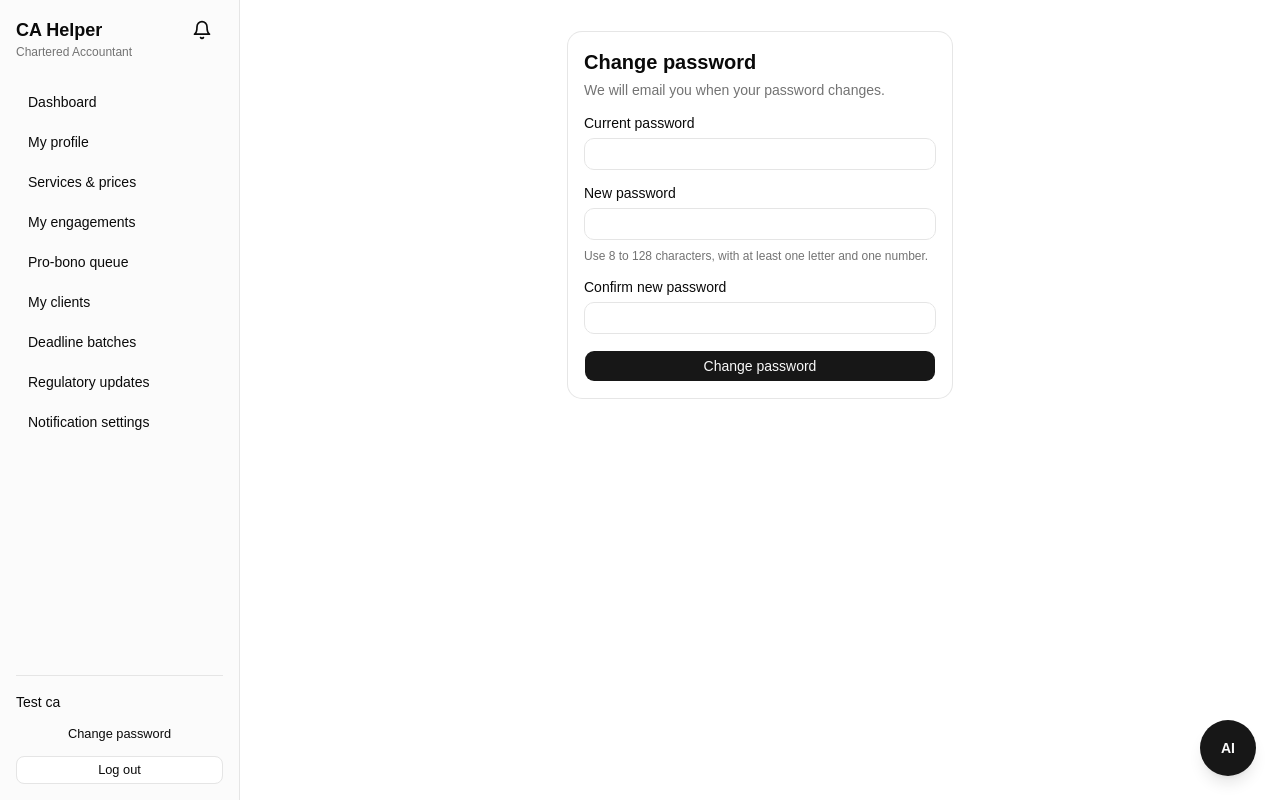
Scenario: change password page › changes the password and empties the form
Type "Old-Password-1" into the password field labelled "Current password" at [760, 154], box [584,138,936,170]
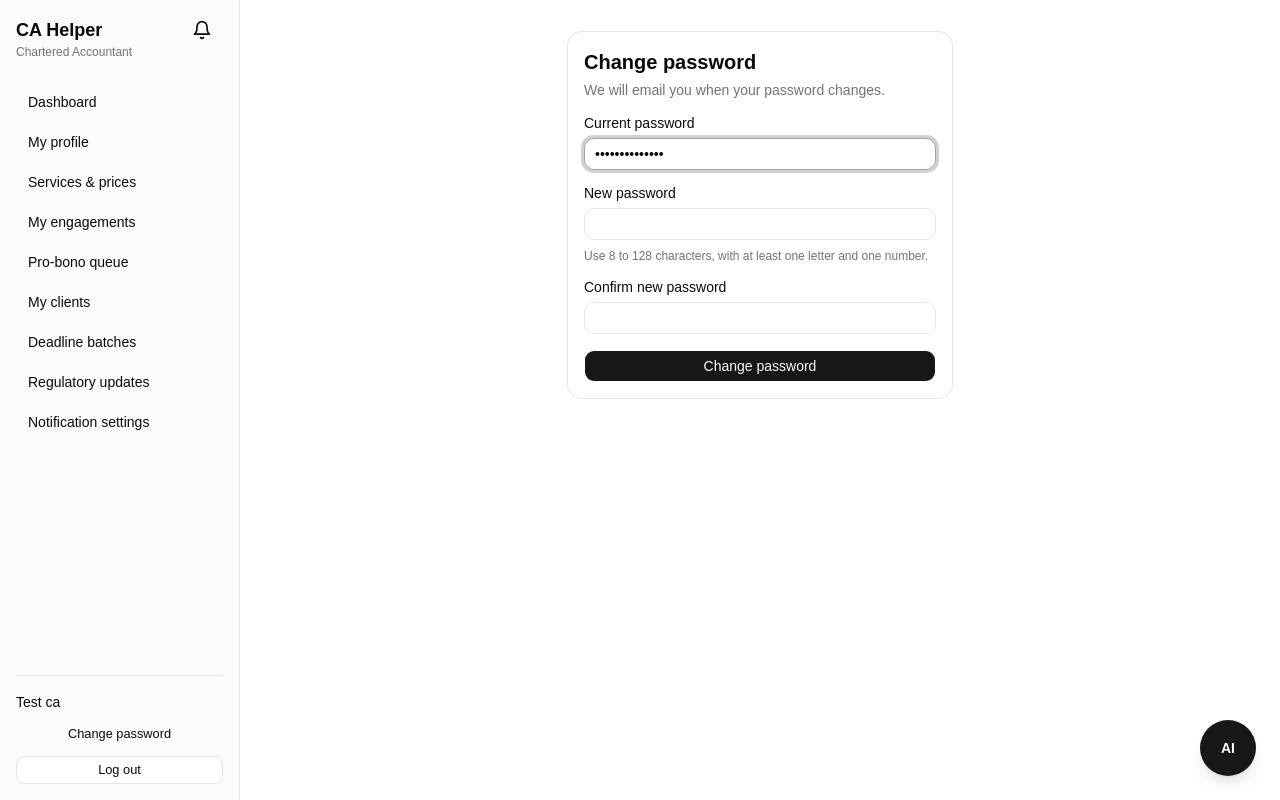
Type "New-Password-7" into the password field labelled "New password" at [760, 224], box [584,208,936,240]
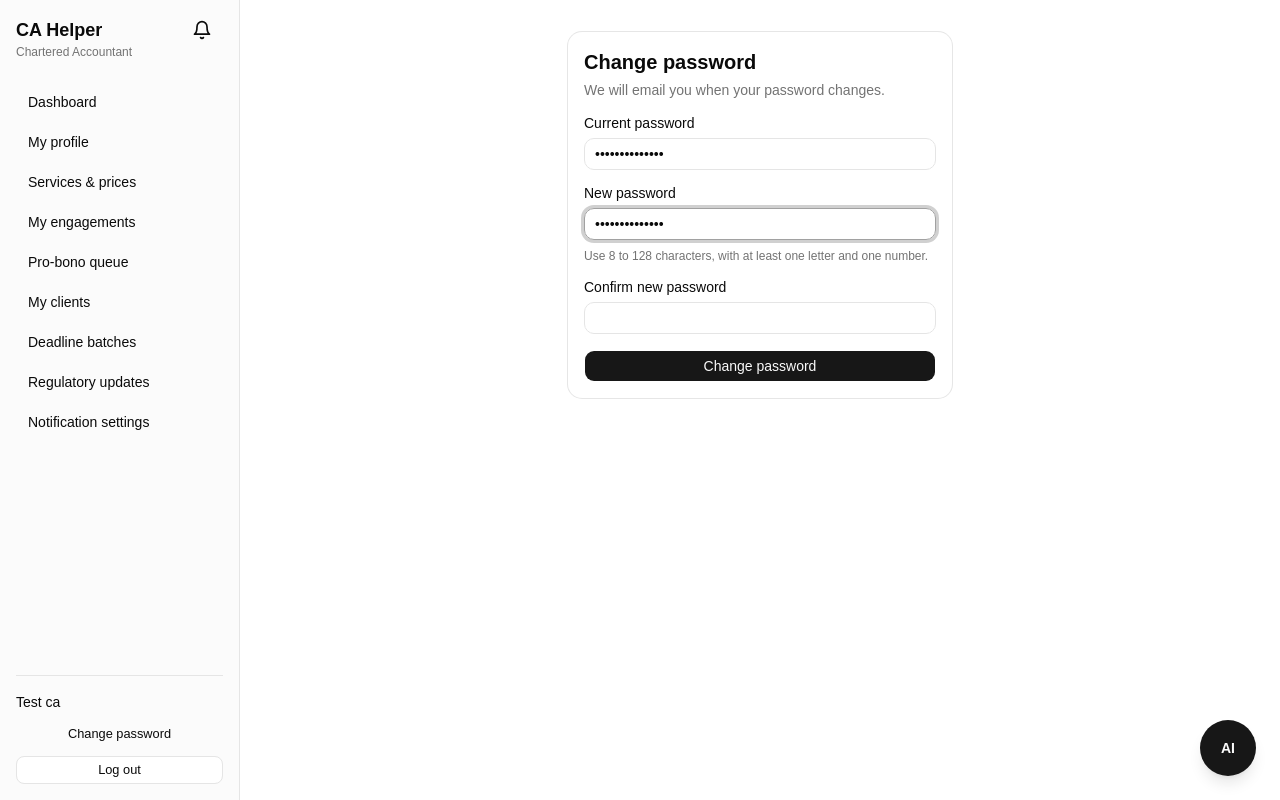
Type "New-Password-7" into the password field labelled "Confirm new password" at [760, 318], box [584,302,936,334]
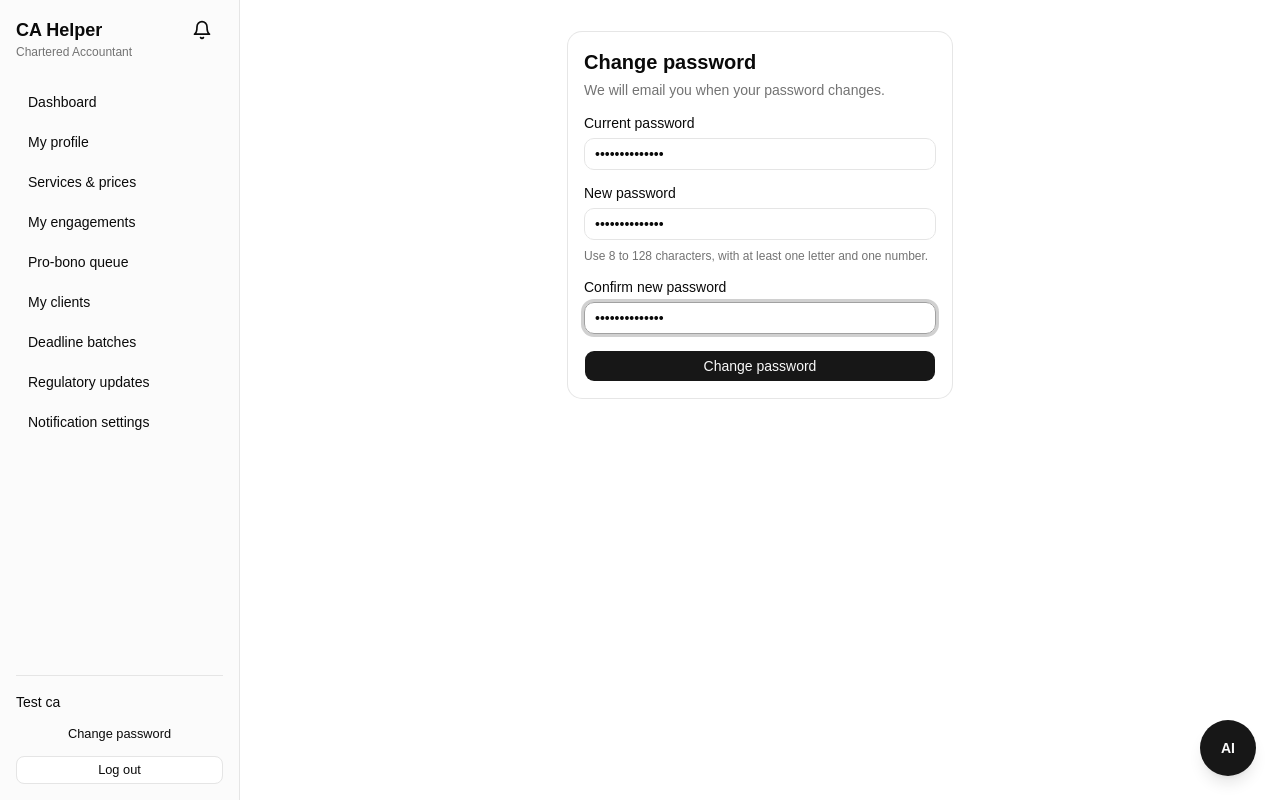
Click the button "Change password" at [760, 366], box [584,350,936,382]
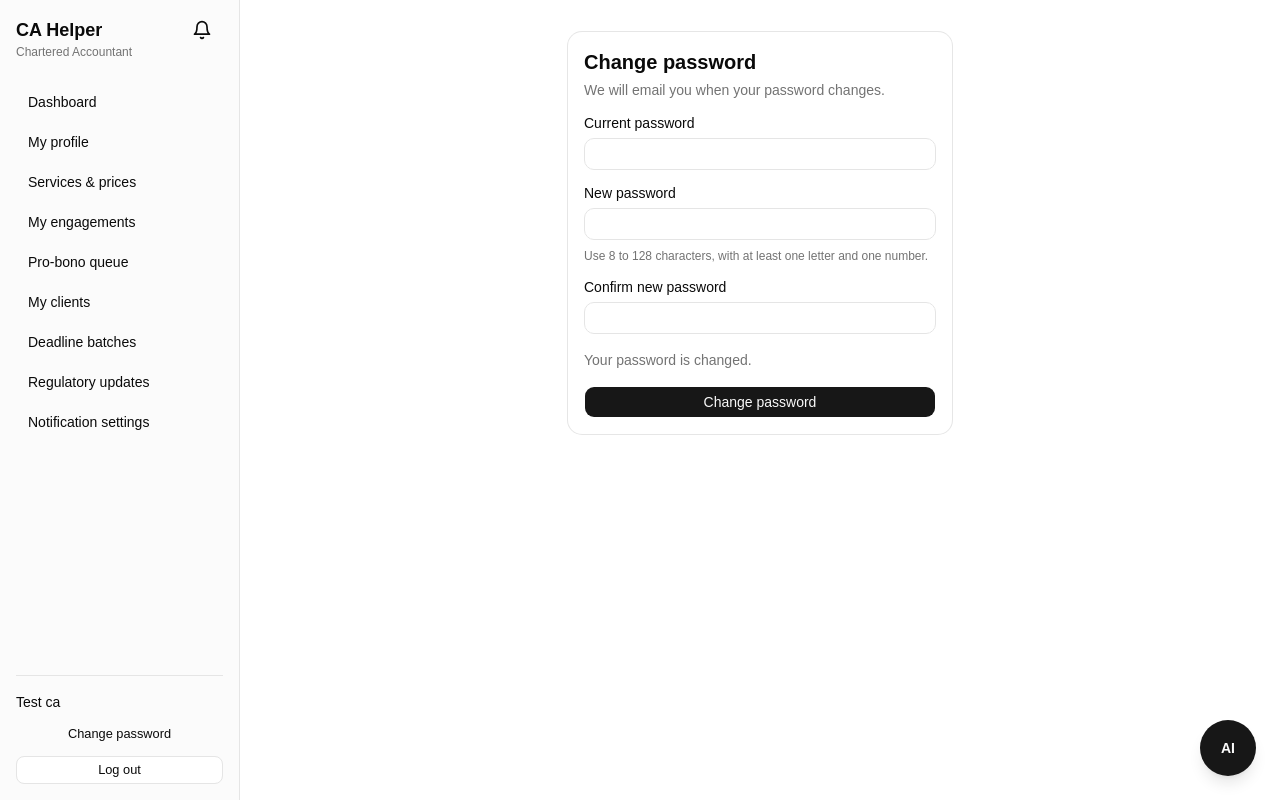
Result: the message reads "Your password is changed." at [584,352,752,368]
Result: the password field labelled "Current password" is empty at [584,138,936,170]
